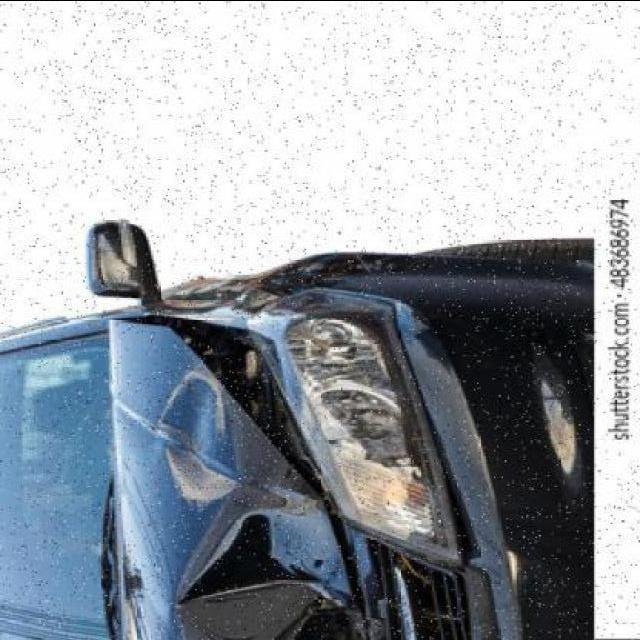bonnet-dent: (103, 436, 363, 640)
